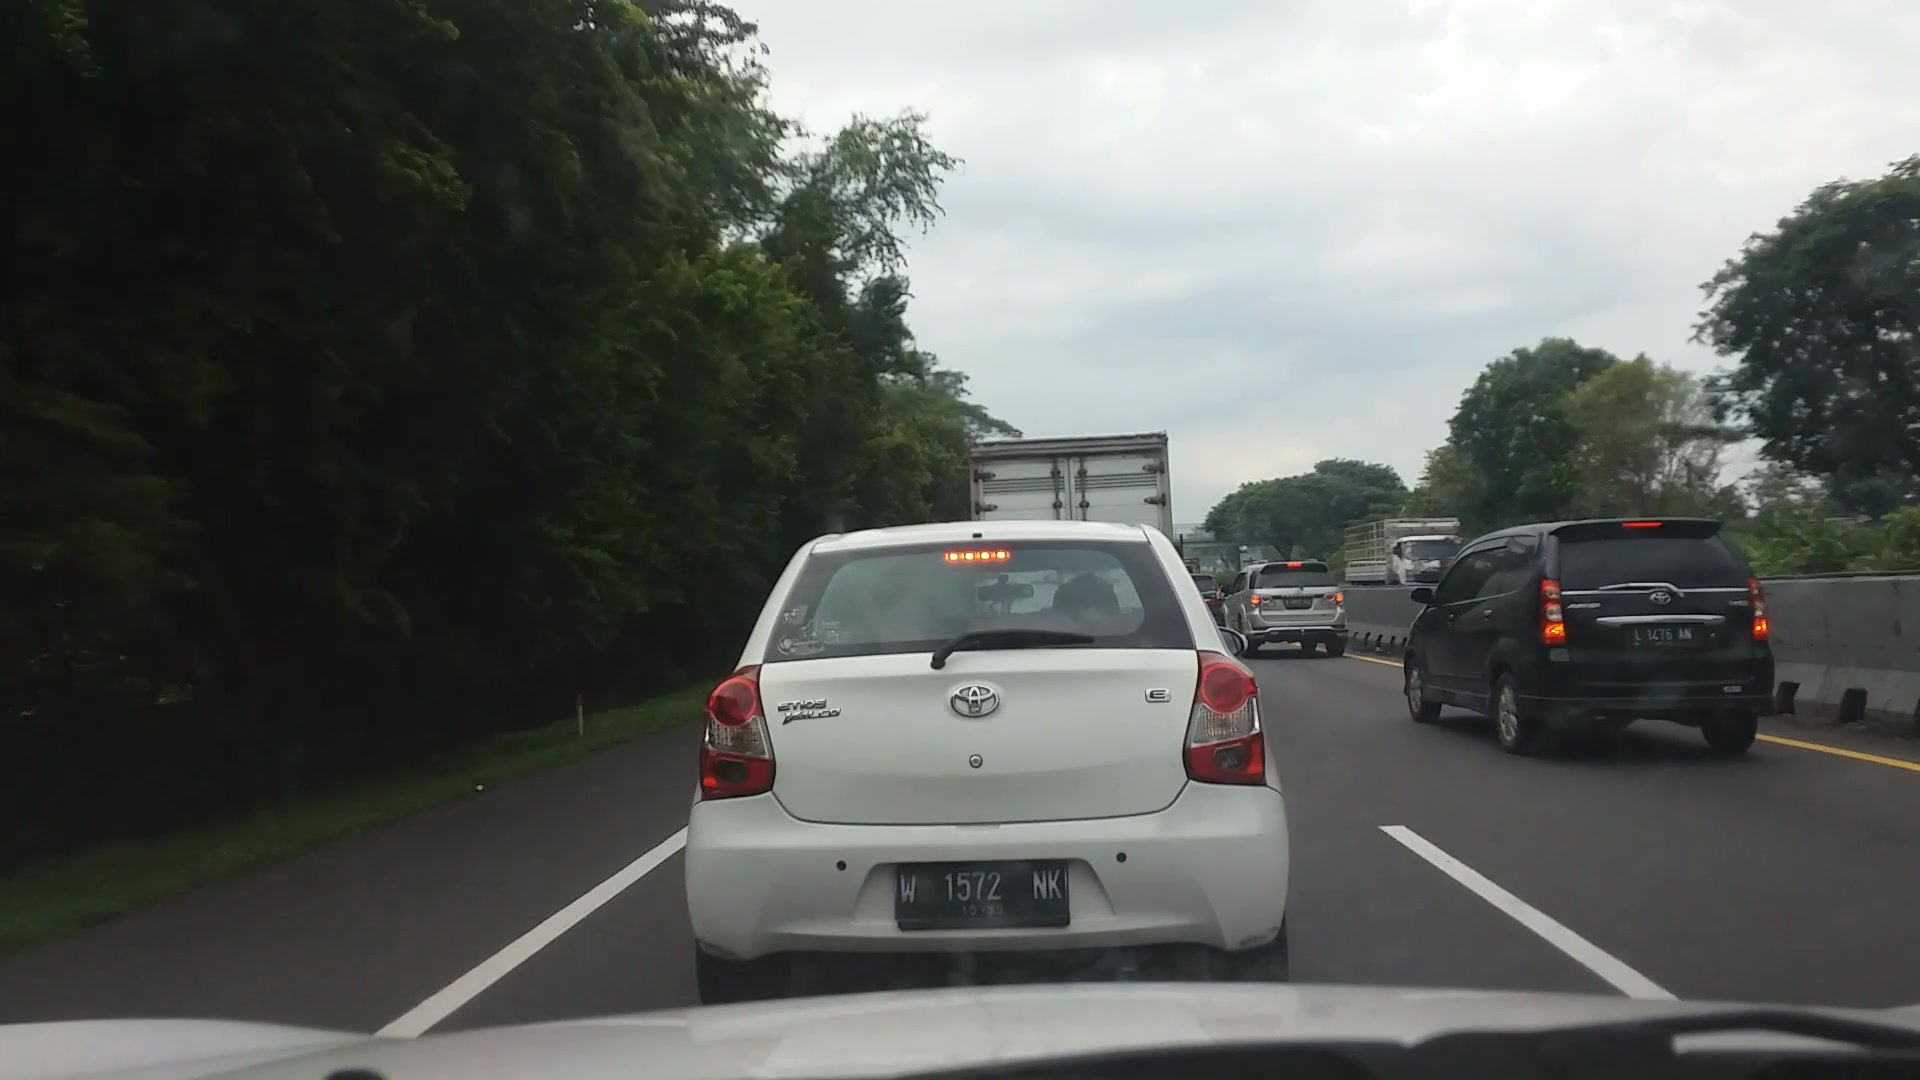plate_positive: (895, 861, 1071, 928)
